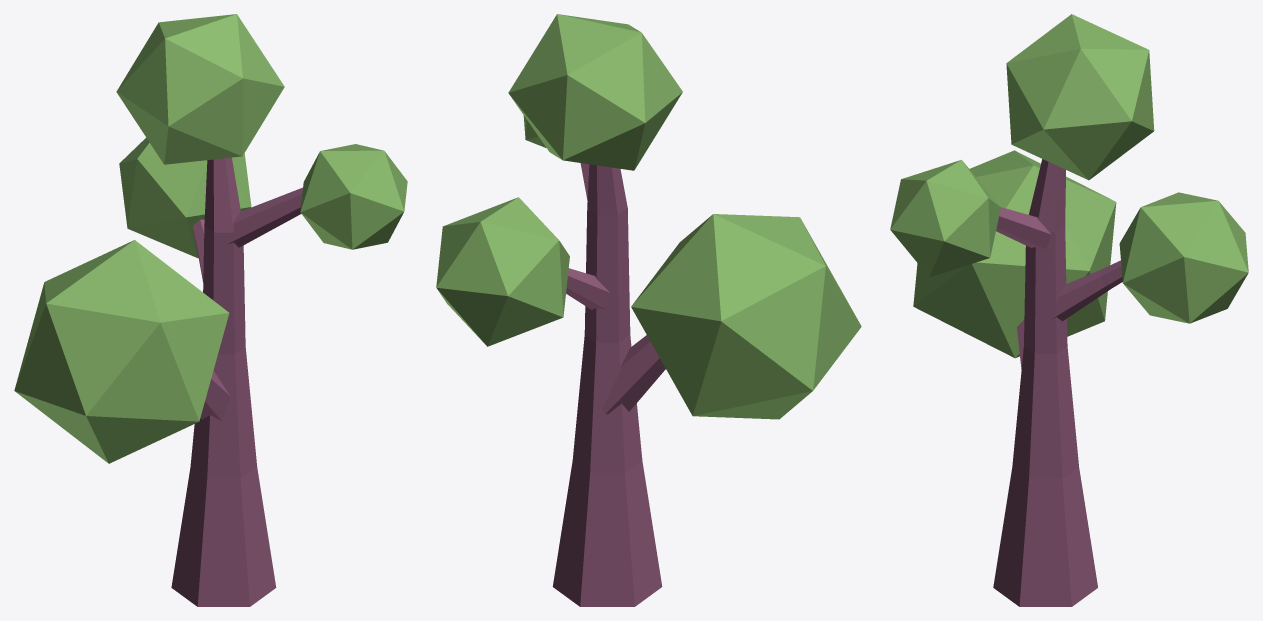
The picture shows the model from 3 angles, left to right: view 1: azimuth 30°, elevation 25°; view 2: azimuth 150°, elevation 25°; view 3: azimuth 270°, elevation 25°; orthographic projection. The views are drawn at different scales.
Parts seen in each view (by area): view 1: Cylinder.003, Cylinder, Cylinder.001, Cylinder.002, Cylinder.004, Cylinder.006; view 2: Cylinder.003, Cylinder, Cylinder.001, Cylinder.004, Cylinder.006, Cylinder.005; view 3: Cylinder, Cylinder.001, Cylinder.003, Cylinder.004, Cylinder.002, Cylinder.005.
Part boxes in pixels (x1,y1,x2,y2): Cylinder.003: (14, 240, 229, 463); Cylinder: (171, 157, 303, 606); Cylinder.001: (116, 14, 284, 164); Cylinder.002: (300, 144, 407, 249); Cylinder.004: (119, 137, 251, 257); Cylinder.006: (200, 371, 230, 420); Cylinder.003: (631, 214, 861, 419); Cylinder: (552, 163, 662, 606); Cylinder.001: (508, 14, 682, 170); Cylinder.004: (436, 197, 569, 346); Cylinder.006: (602, 335, 665, 414); Cylinder.005: (566, 268, 610, 309); Cylinder: (993, 159, 1097, 606); Cylinder.001: (1006, 14, 1154, 180); Cylinder.003: (913, 150, 1116, 358); Cylinder.004: (1119, 192, 1248, 323); Cylinder.002: (890, 160, 1000, 277); Cylinder.005: (1051, 260, 1122, 321).
Size of the model in its own units: 3.45 by 5.42 by 3.18.
